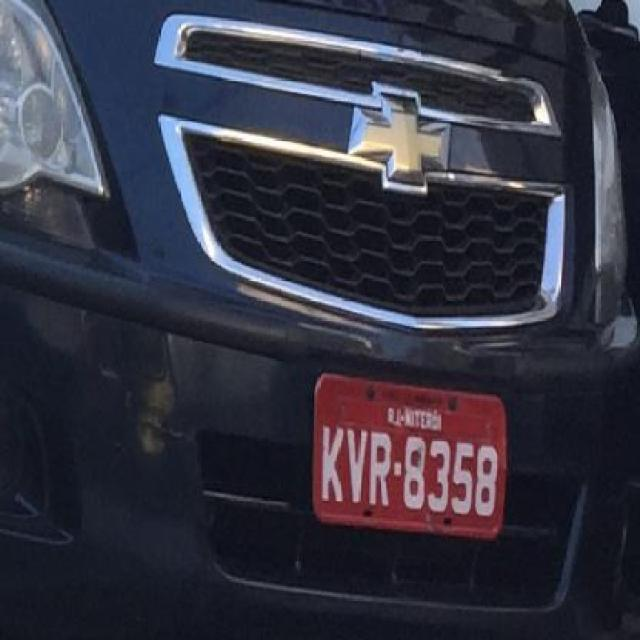old_plate: (306, 368, 515, 542)
